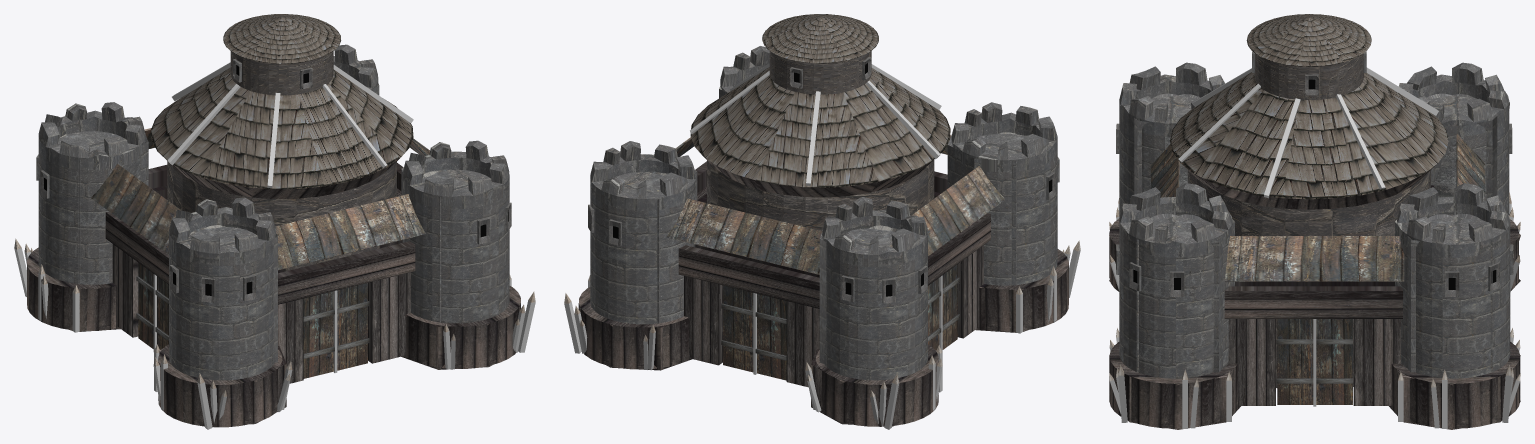
The model's file is orcbase.fbx.
3 renders of one model, left to right at view 1: azimuth 30°, elevation 25°; view 2: azimuth 150°, elevation 25°; view 3: azimuth 270°, elevation 25°, orthographic. The views are drawn at different scales.
Visible parts, largest first — view 1: Kostka.011; view 2: Kostka.011; view 3: Kostka.011.
Part boxes in pixels (left/top/right/bottom): Kostka.011: left=14, top=14, right=535, bottom=429; Kostka.011: left=564, top=14, right=1080, bottom=429; Kostka.011: left=1109, top=14, right=1520, bottom=429.
Bounding box in the file's own units: 7723 × 6441 × 7385.
